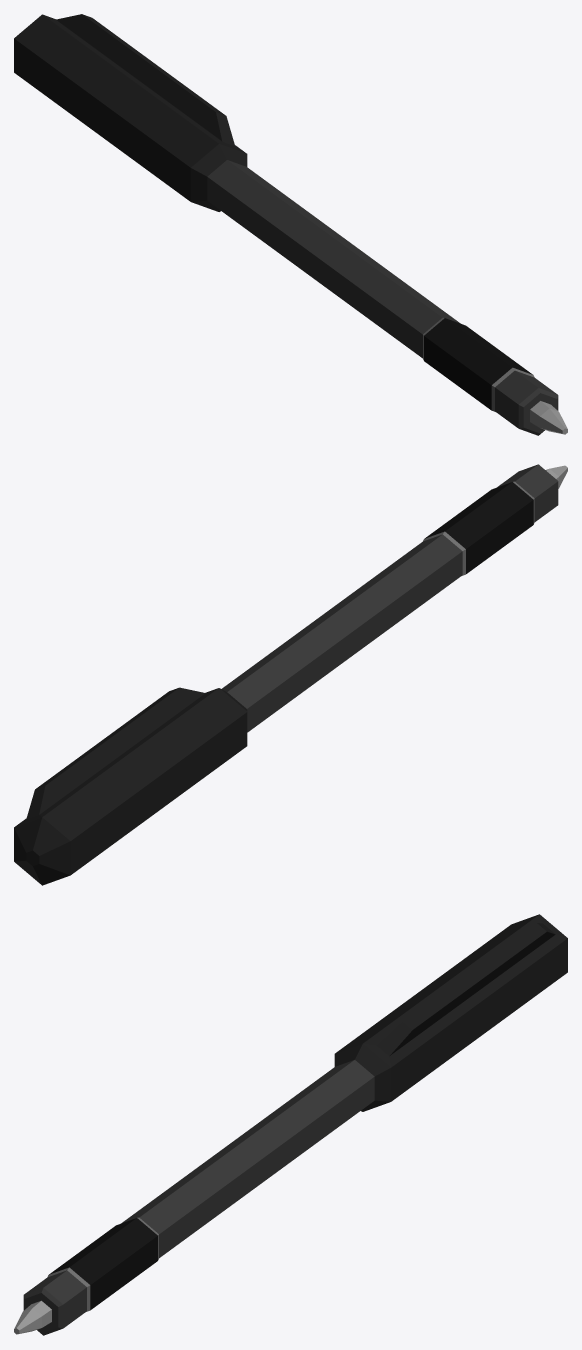
Rendered from PenV2Black.fbx.
The picture shows the model from 3 angles, top to bottom: view 1: azimuth 30°, elevation 25°; view 2: azimuth 150°, elevation 25°; view 3: azimuth 330°, elevation 25°; orthographic projection.
Parts seen in each view (by area): view 1: PenV2Black; view 2: PenV2Black; view 3: PenV2Black.
Part boxes in pixels (x1,y1,x2,y2): PenV2Black: [14, 14, 567, 435]; PenV2Black: [14, 464, 567, 885]; PenV2Black: [14, 914, 567, 1335].
Size of the model in its own units: 0.6611 by 0.8859 by 10.7.
